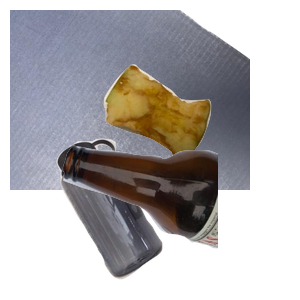cardboard: (10, 10, 250, 190)
glass: (60, 142, 300, 300)
plastic: (54, 136, 209, 300)
trash: (101, 62, 300, 217)
